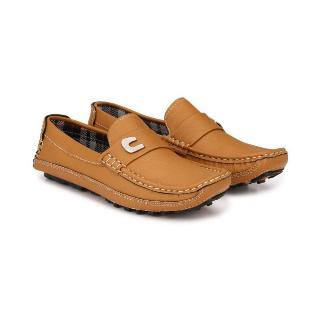loafers: (26, 93, 292, 223)
